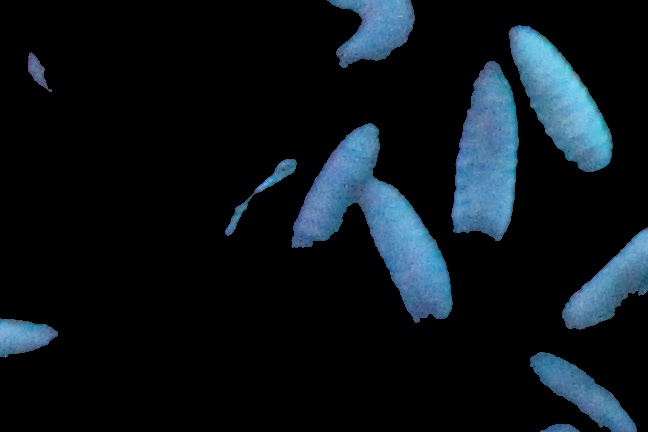larvae: (507, 21, 616, 174), (354, 180, 455, 328), (449, 55, 516, 242), (295, 121, 380, 267), (559, 222, 648, 338), (324, 1, 415, 80)
